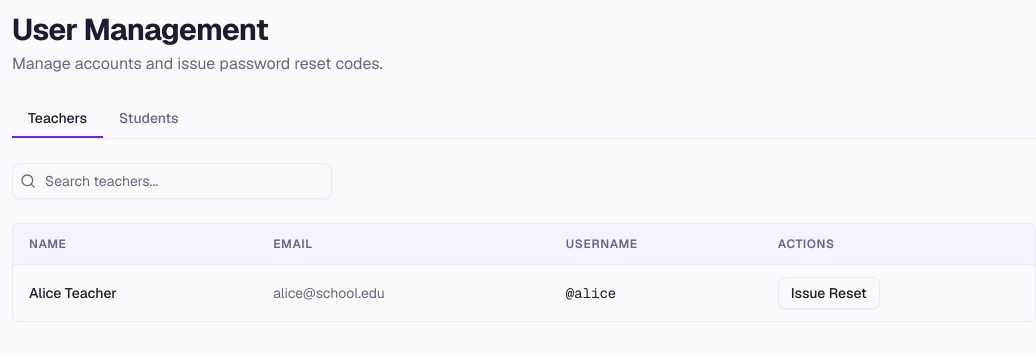
StaffManagementView › shows no students message when empty
Expected: the text "Alice Teacher" is shown, x1=13 y1=264 x2=257 y2=321
Step 1. Click the button "Students" → (149, 119), box x1=103 y1=100 x2=195 y2=138
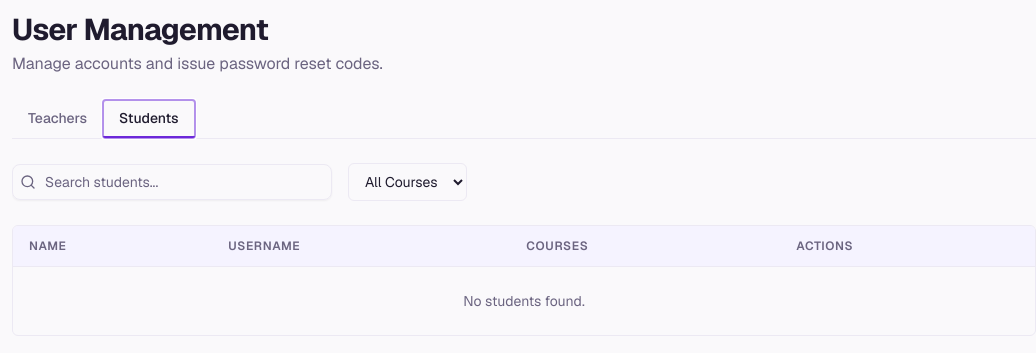
Now the text "No students found." is shown, box x1=13 y1=266 x2=1035 y2=335
